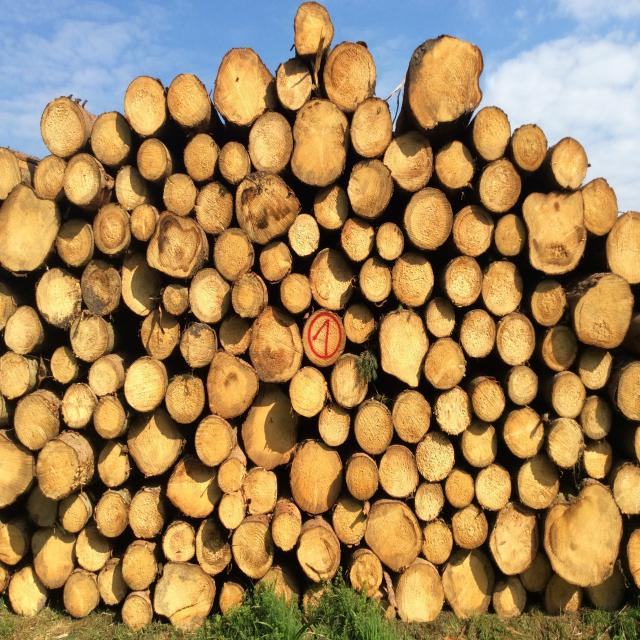wood-log: (545, 481, 622, 586), (408, 35, 482, 126), (527, 189, 590, 273), (240, 388, 302, 471), (0, 186, 57, 274), (290, 98, 347, 185), (572, 272, 634, 347), (234, 174, 298, 244), (214, 50, 272, 126), (250, 306, 304, 383), (152, 562, 215, 626), (126, 406, 185, 474), (376, 310, 427, 388), (364, 503, 420, 574), (288, 441, 341, 515), (323, 40, 378, 110), (148, 216, 205, 282), (446, 548, 499, 616), (490, 501, 538, 574), (206, 354, 258, 420), (170, 456, 223, 520), (384, 130, 434, 192), (404, 188, 453, 249), (310, 250, 357, 313), (10, 390, 59, 450), (398, 558, 445, 620), (38, 435, 84, 498), (249, 113, 295, 175), (295, 519, 339, 583), (347, 162, 395, 220), (36, 267, 83, 326), (42, 100, 89, 158), (0, 432, 35, 509), (34, 528, 78, 589), (124, 76, 168, 136), (232, 517, 274, 578), (350, 99, 392, 159), (332, 350, 376, 406), (301, 311, 344, 368), (123, 357, 167, 412), (165, 75, 210, 128), (393, 250, 434, 308), (607, 210, 640, 282), (80, 259, 121, 316), (479, 162, 523, 215), (90, 112, 133, 166), (377, 444, 419, 499), (480, 260, 522, 315), (519, 455, 561, 510), (190, 267, 231, 322), (425, 337, 468, 389), (69, 310, 112, 362), (495, 313, 536, 367), (354, 400, 395, 454), (453, 204, 495, 256), (391, 390, 431, 444), (473, 108, 513, 162), (500, 407, 542, 458), (213, 228, 254, 280), (583, 178, 619, 237), (166, 372, 207, 423), (546, 418, 586, 470), (196, 520, 232, 577), (441, 257, 481, 308), (275, 57, 314, 109), (432, 140, 474, 188), (196, 182, 234, 235), (416, 432, 456, 482), (288, 367, 328, 417), (9, 565, 47, 617), (128, 488, 166, 540), (196, 416, 236, 465), (458, 308, 497, 358), (64, 154, 101, 206), (551, 136, 588, 188), (296, 4, 333, 56), (3, 306, 43, 354), (94, 203, 129, 256), (121, 540, 158, 590), (331, 494, 368, 544), (270, 498, 304, 552), (474, 464, 512, 512), (432, 389, 470, 437), (63, 570, 100, 618), (184, 133, 220, 181), (512, 124, 548, 172), (179, 324, 218, 368), (231, 271, 268, 317), (472, 375, 508, 422), (56, 221, 92, 268), (530, 278, 565, 326), (459, 422, 495, 468), (76, 526, 112, 572), (96, 441, 131, 488), (587, 573, 628, 613), (346, 454, 380, 502), (552, 372, 587, 418), (452, 504, 487, 550), (243, 468, 278, 514), (316, 187, 352, 231), (580, 393, 612, 442), (61, 383, 94, 430), (578, 346, 614, 389), (94, 396, 129, 440), (359, 258, 392, 304), (339, 219, 374, 262), (423, 518, 455, 564), (25, 485, 59, 528), (612, 463, 640, 515), (496, 213, 528, 258), (34, 156, 66, 201), (544, 576, 580, 616), (163, 173, 197, 215), (163, 520, 197, 562), (136, 138, 170, 180), (424, 296, 458, 338), (95, 492, 126, 538), (289, 214, 321, 258), (507, 365, 541, 406), (617, 361, 640, 421), (219, 143, 251, 186), (320, 404, 352, 447), (343, 302, 376, 343), (122, 591, 155, 631), (90, 354, 122, 395), (0, 352, 29, 397), (60, 493, 92, 533), (520, 552, 551, 593), (582, 440, 614, 479), (414, 482, 445, 522), (279, 273, 310, 313), (50, 345, 80, 384), (376, 222, 406, 260), (444, 470, 474, 508), (217, 456, 247, 494), (217, 493, 246, 529), (0, 148, 20, 200), (627, 526, 640, 587), (0, 282, 16, 330), (0, 394, 9, 426), (0, 562, 9, 594)
